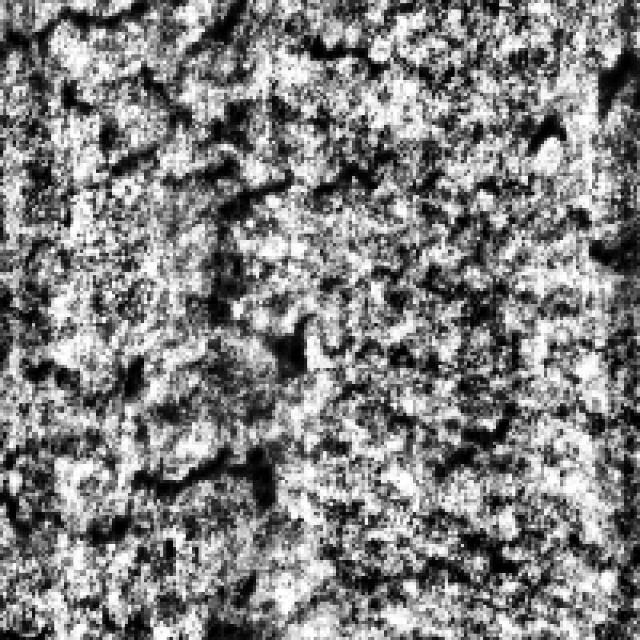Pitted_Surface: (0, 150, 470, 425), (0, 0, 409, 214), (0, 425, 278, 604)
